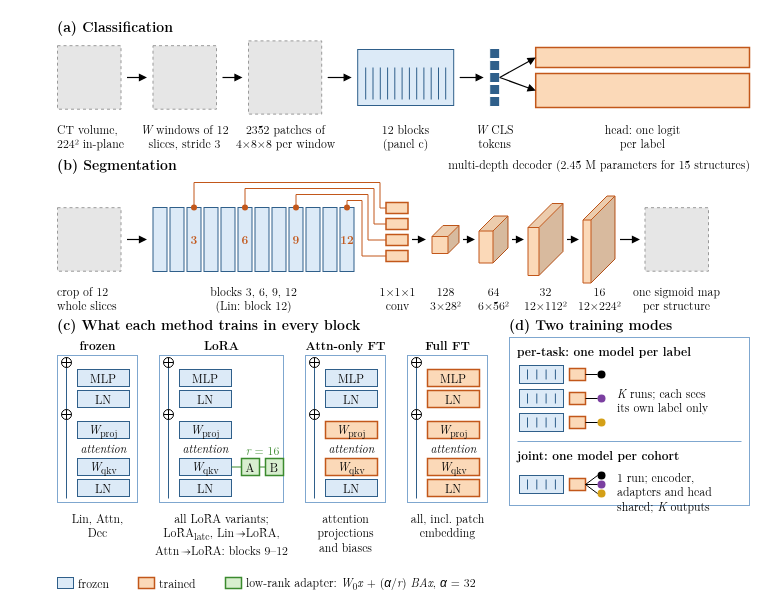
The diagram is 767 pixels wide and 610 high, and some of its shapes have lost their labels. Grey dashed boxes stand in for pictures. The centre of each missing label's shape, as x and y in pixels:
"Attn: two attention blocks → linear" belongs at point 642,90.
"Lin: mean → linear" belongs at point 642,57.
"ViT-B" belongs at point 405,77.
